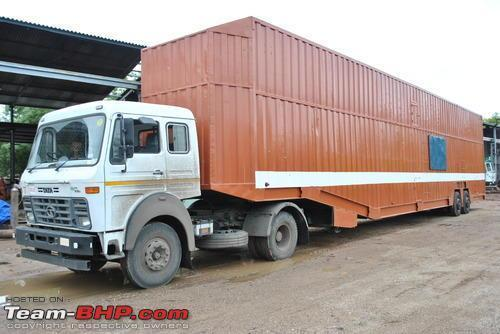truck: (3, 14, 498, 277)
